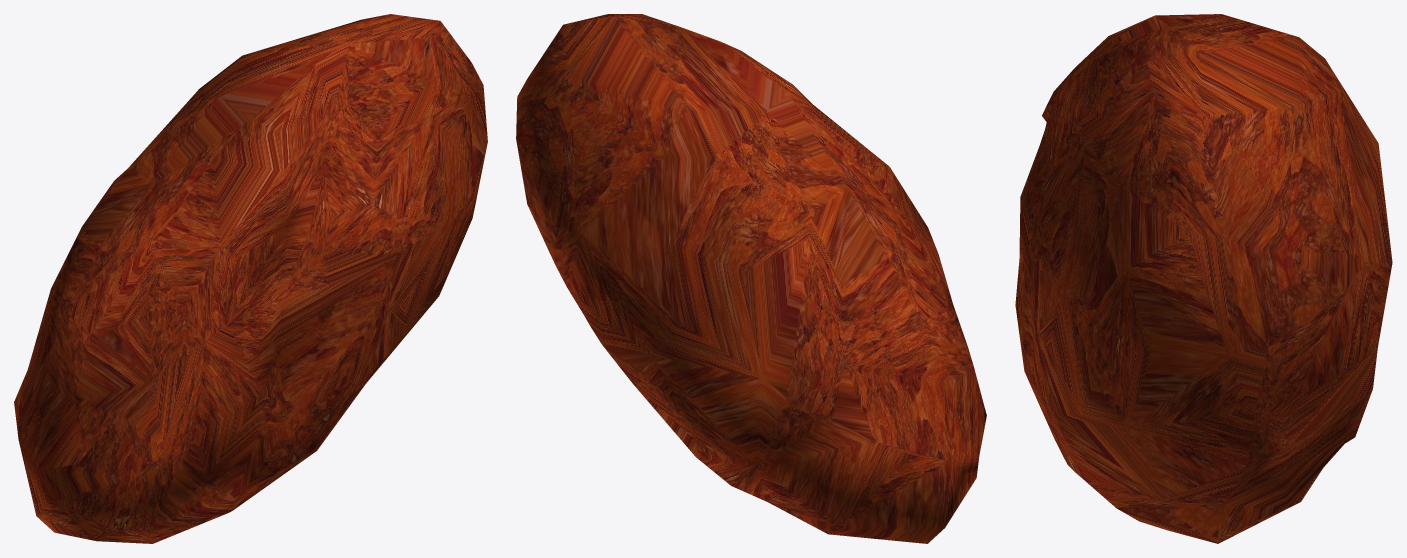
Rendered from grano-low.glb.
3 renders of one model, left to right at view 1: azimuth 30°, elevation 25°; view 2: azimuth 150°, elevation 25°; view 3: azimuth 270°, elevation 25°, orthographic. The views are drawn at different scales.
Size of the model in its own units: 1.88 by 1.83 by 1.02.
Materials: 1 (1 with a texture image).
